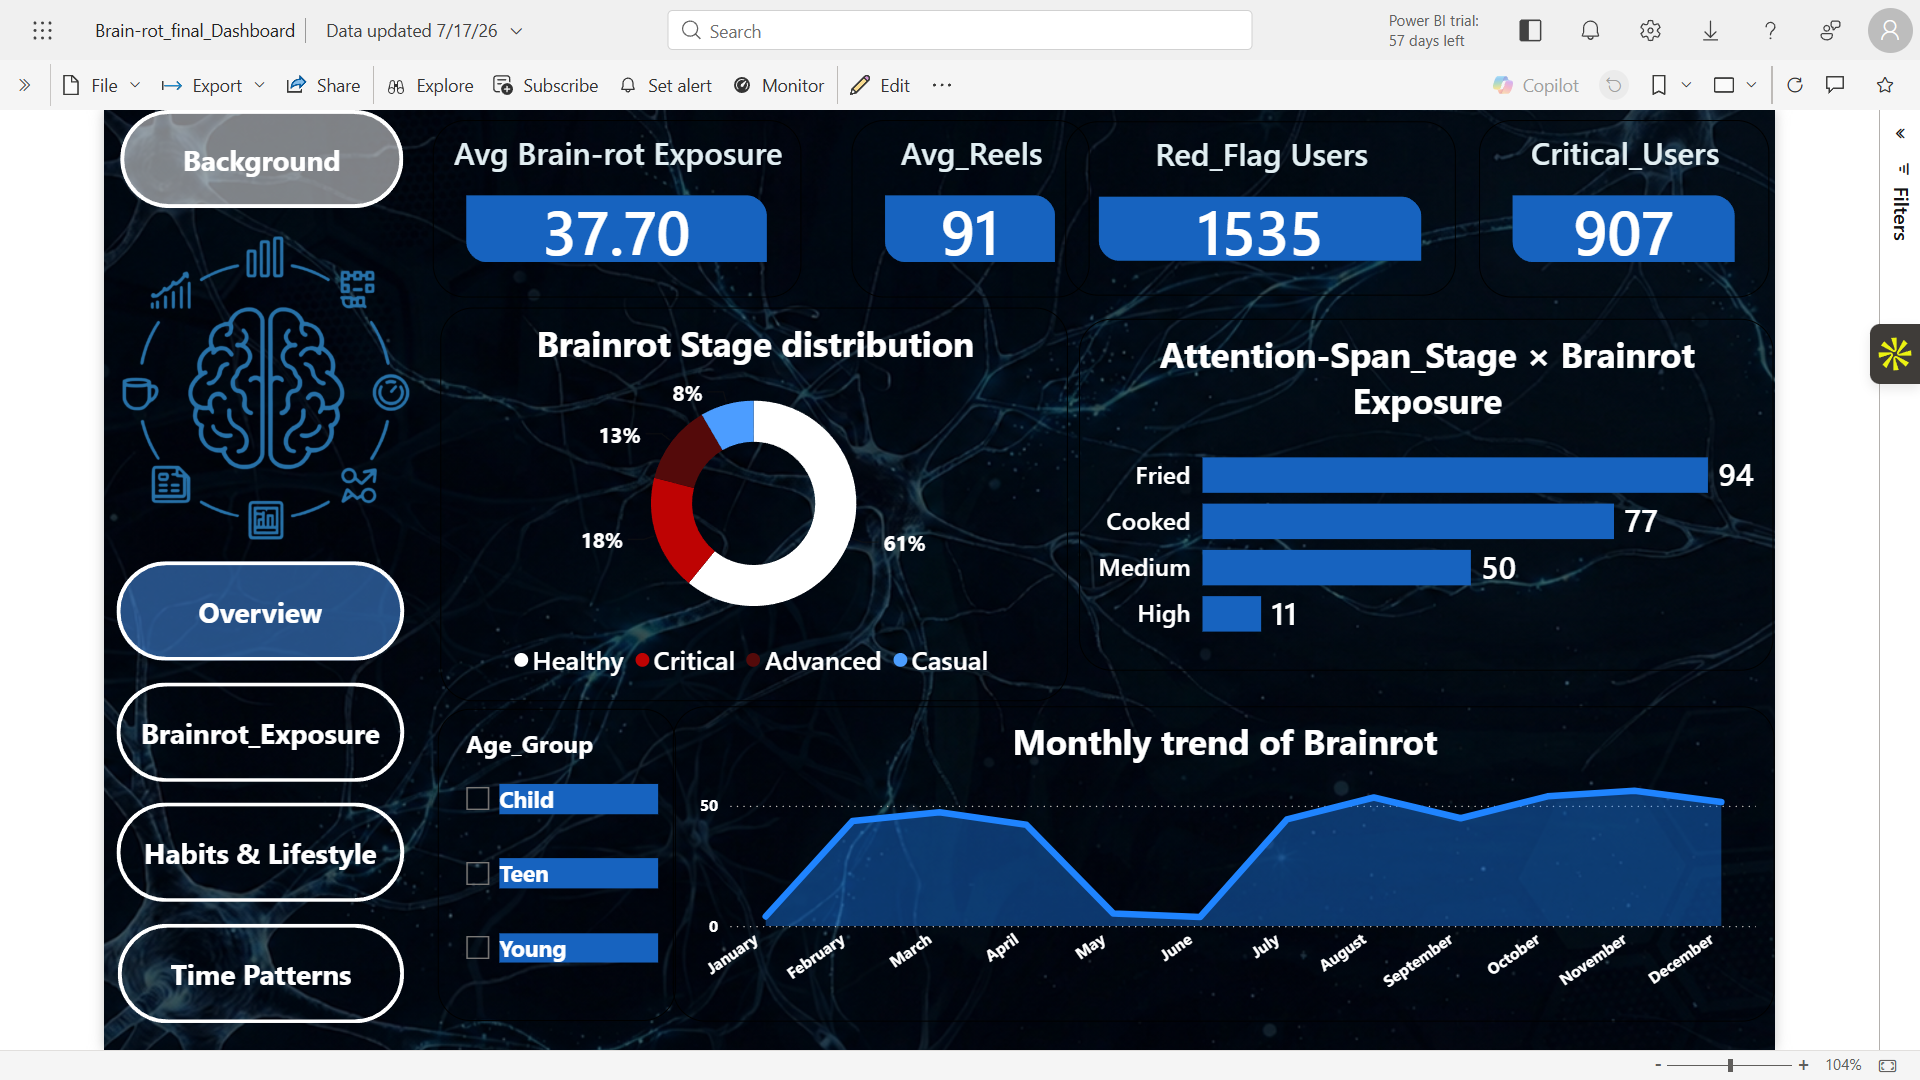

This screenshot's page, from the dashboard's own definition file:
{"tool":"powerbi","page":{"name":"Overview","canvas":[1280,720],"ordinal":1},"visuals":[{"type":"group","id":"g1","title":"Overview","box":[9.7,0,1270.1,699.1],"z":0},{"type":"cardVisual","title":"Avg Brain-rot Exposure","fields":{"Data":["Avg(Fact_User_Activity.Brainrot_Exposure_Score)"]},"box":[252.1,7.4,282.7,135.8],"z":0,"group":"g4"},{"type":"donutChart","title":"Brainrot Stage distribution","fields":{"Y":["CountNonNull(Fact_User_Activity.ActivityID)"],"Category":["Dim_MentalState.Brainrot_Stage"]},"box":[257.2,151.4,480.9,301.7],"z":0,"group":"g1"},{"type":"group","id":"g2","title":"Constant","box":[9.7,345.2,220.4,353.8],"z":0,"group":"g5"},{"type":"actionButton","title":"Geographic Intel","box":[9.7,345.2,220.4,76.3],"z":0,"group":"g2"},{"type":"group","id":"g3","title":"Group 1","box":[9.7,0,220.4,699.1],"z":1000,"group":"g1"},{"type":"cardVisual","title":"Avg_Reels","fields":{"Data":["Avg(Fact_User_Activity.Total_Reels_Watched)"]},"box":[572.8,7.4,182.4,135.9],"z":1000,"group":"g4"},{"type":"image","box":[7.8,95.7,232.7,234.9],"z":1000},{"type":"actionButton","title":"Time Patterns","box":[9.7,437.7,220.4,76.3],"z":1000,"group":"g2"},{"type":"group","id":"g4","title":"KPIs_Overview","box":[252.1,7.4,1023.3,136.2],"z":2000,"group":"g1"},{"type":"barChart","title":"Attention-Span_Stage × Brainrot Exposure","fields":{"Y":["Avg(Fact_User_Activity.Brainrot_Exposure_Score)"],"Category":["Dim_MentalState.Attention_Span_Level"]},"box":[746.9,160.3,532.1,269.4],"z":2000},{"type":"group","id":"g5","title":"Constants","box":[9.7,345.2,220.4,353.8],"z":2000,"group":"g3"},{"type":"actionButton","title":"Brainrot_Exposure","box":[10.7,622.7,219.4,76.3],"z":2000,"group":"g2"},{"type":"cardVisual","title":"Critical_Users","fields":{"Data":["Dim_Date.Critical_Users"]},"box":[1053.3,7.4,222.3,135.9],"z":3000,"group":"g4"},{"type":"cardVisual","title":"Red_Flag Users","fields":{"Data":["Dim_Date.Red_Flag Users"]},"box":[736.2,8.6,299.4,133.7],"z":3000},{"type":"slicer","title":"AgeGroup_Slicer","fields":{"Values":["Dim_Users.Age_Group"]},"box":[256.1,458.8,182.6,239.3],"z":3000,"group":"g1"},{"type":"actionButton","title":"Overview","box":[9.7,530.2,220.4,76.3],"z":3000,"group":"g2"},{"type":"actionButton","title":"Backround","box":[12.3,0,216.8,75.1],"z":5000,"group":"g3"},{"type":"areaChart","title":"Monthly trend of Brainrot","fields":{"Y":["Avg(Fact_User_Activity.Brainrot_Exposure_Score)"],"Category":["Dim_Date.FullDate.Variation.Date Hierarchy.Month"]},"box":[435.6,456.7,844.2,241.7],"z":5000,"group":"g1"}]}

Visuals, with their boxes on the page's 1280x720 design canvas (x1, y1, x2, y2). These are canvas units, not pixel positions in the 1920x1080 screenshot, which may show the page scaled, cropped or inside an application window:
"Overview" group: (10,0,1280,699)
"Avg Brain-rot Exposure" cardVisual: (252,7,535,143)
"Brainrot Stage distribution" donutChart: (257,151,738,453)
"Constant" group: (10,345,230,699)
"Geographic Intel" actionButton: (10,345,230,422)
"Group 1" group: (10,0,230,699)
"Avg_Reels" cardVisual: (573,7,755,143)
image: (8,96,240,331)
"Time Patterns" actionButton: (10,438,230,514)
"KPIs_Overview" group: (252,7,1275,144)
"Attention-Span_Stage × Brainrot Exposure" barChart: (747,160,1279,430)
"Constants" group: (10,345,230,699)
"Brainrot_Exposure" actionButton: (11,623,230,699)
"Critical_Users" cardVisual: (1053,7,1276,143)
"Red_Flag Users" cardVisual: (736,9,1036,142)
"AgeGroup_Slicer" slicer: (256,459,439,698)
"Overview" actionButton: (10,530,230,606)
"Backround" actionButton: (12,0,229,75)
"Monthly trend of Brainrot" areaChart: (436,457,1280,698)
